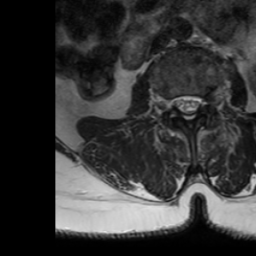CCS_normal: (184, 87, 192, 127)
LFS_stenosis: (200, 88, 209, 115)
LLS_stenosis: (192, 88, 200, 116)
RFS_normal: (165, 88, 174, 116)
RLS_normal: (174, 88, 184, 119)
